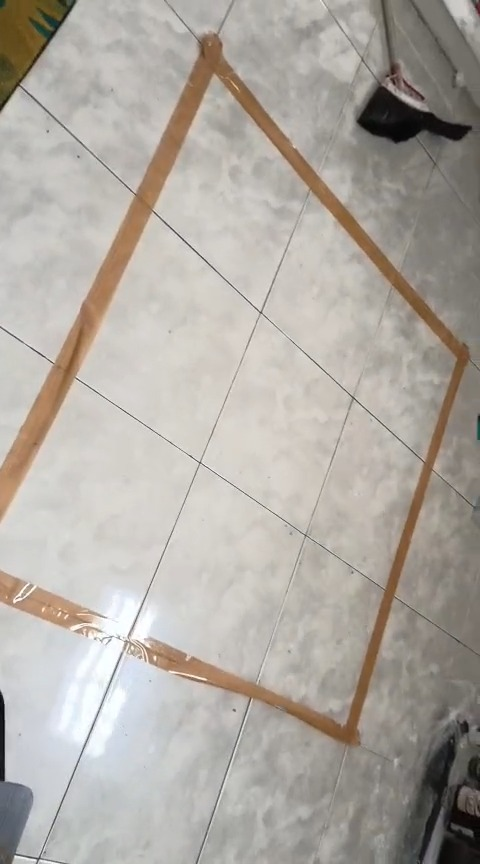floor marking: (0, 33, 469, 744)
